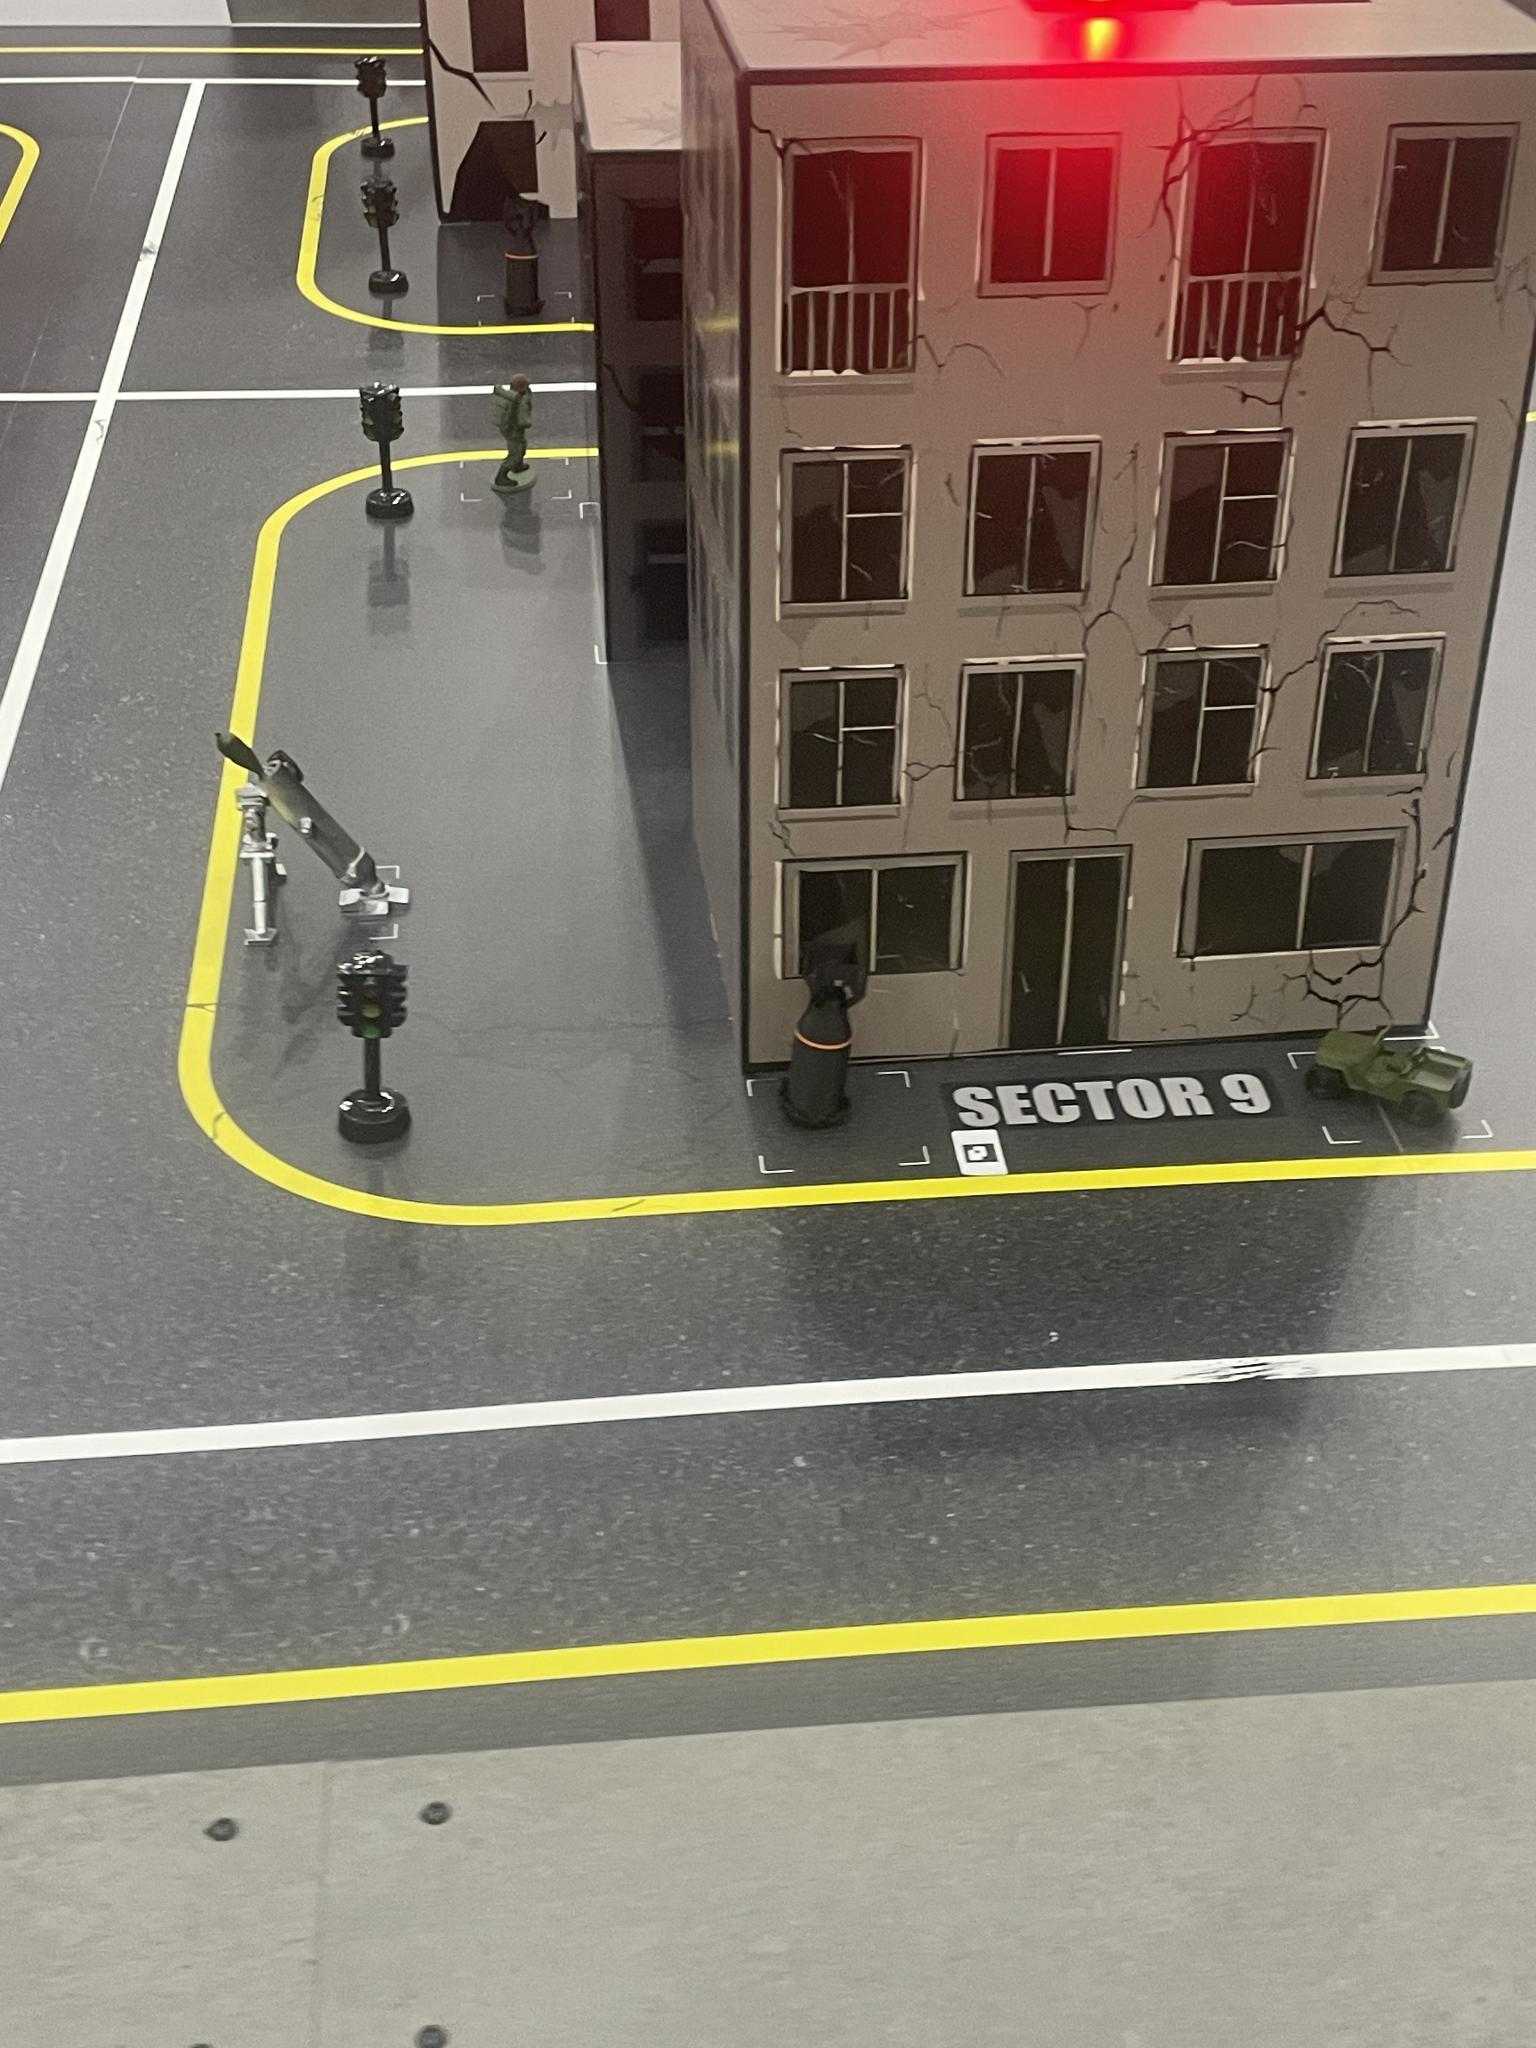Car: (1305, 1034, 1473, 1127)
Enemy: (490, 376, 534, 493)
Missile: (792, 950, 868, 1121), (499, 203, 557, 318)
Mortar: (218, 732, 408, 935)
